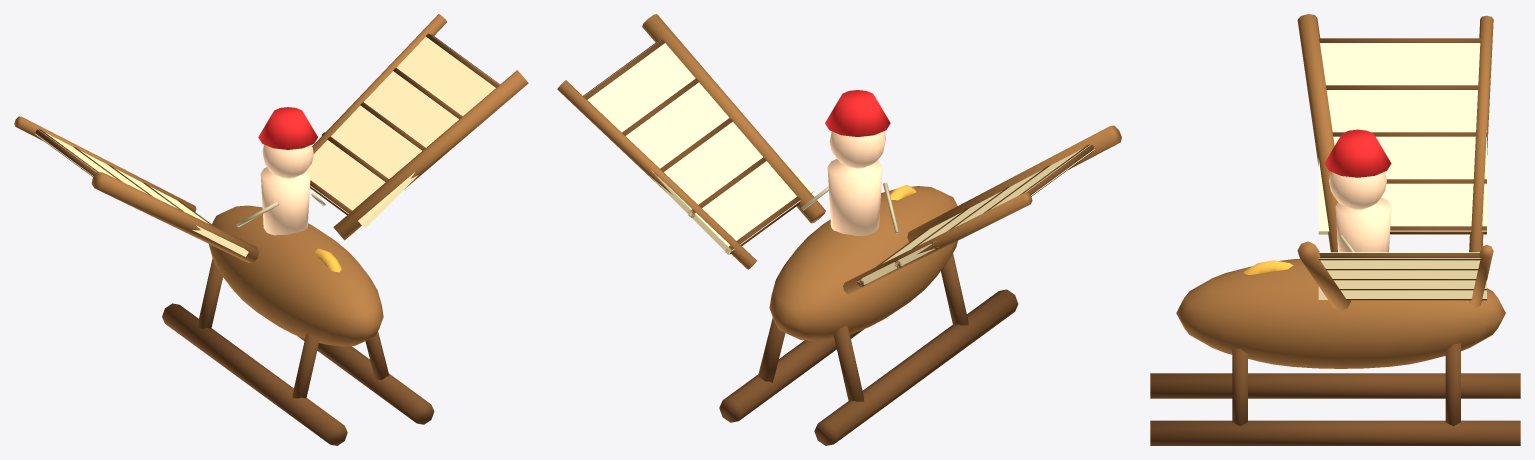
The model's file is ornitoptero.glb.
3 renders of one model, left to right at view 1: azimuth 30°, elevation 25°; view 2: azimuth 150°, elevation 25°; view 3: azimuth 270°, elevation 25°, orthographic. The views are drawn at different scales.
Parts seen in each view (by area): view 1: ornitoptero_casco, ornitoptero_tela_1, ornitoptero_patin_dcho, ornitoptero_larguero_1, ornitoptero_larguero_-1, ornitoptero_patin_izq, ornitoptero_piloto, ornitoptero_gorro, ornitoptero_tela_-1, ornitoptero_larguero_atras_1, ornitoptero_cabeza, ornitoptero_larguero_atras_-1 (+5 smaller); view 2: ornitoptero_tela_1, ornitoptero_casco, ornitoptero_patin_dcho, ornitoptero_larguero_1, ornitoptero_piloto, ornitoptero_patin_izq, ornitoptero_larguero_atras_1, ornitoptero_tela_-1, ornitoptero_larguero_atras_-1, ornitoptero_larguero_-1, ornitoptero_gorro, ornitoptero_cabeza (+6 smaller); view 3: ornitoptero_casco, ornitoptero_tela_-1, ornitoptero_patin_izq, ornitoptero_patin_dcho, ornitoptero_tela_1, ornitoptero_larguero_-1, ornitoptero_larguero_atras_-1, ornitoptero_piloto, ornitoptero_gorro, ornitoptero_cabeza, ornitoptero_larguero_1, ornitoptero_costilla_1_4 (+9 smaller).
Part boxes in pixels (<box>): ornitoptero_casco: <box>209,205,383,346</box>; ornitoptero_tela_1: <box>308,33,499,227</box>; ornitoptero_patin_dcho: <box>162,303,347,445</box>; ornitoptero_larguero_1: <box>333,70,528,240</box>; ornitoptero_larguero_-1: <box>91,172,258,262</box>; ornitoptero_patin_izq: <box>297,336,434,424</box>; ornitoptero_piloto: <box>260,167,310,235</box>; ornitoptero_gorro: <box>258,107,317,149</box>; ornitoptero_tela_-1: <box>35,129,248,256</box>; ornitoptero_larguero_atras_1: <box>312,14,446,153</box>; ornitoptero_cabeza: <box>262,144,313,178</box>; ornitoptero_larguero_atras_-1: <box>14,116,196,211</box>; ornitoptero_tela_1: <box>584,39,814,254</box>; ornitoptero_casco: <box>769,186,957,340</box>; ornitoptero_patin_dcho: <box>814,289,1018,445</box>; ornitoptero_larguero_1: <box>642,14,825,223</box>; ornitoptero_piloto: <box>827,159,882,235</box>; ornitoptero_patin_izq: <box>719,329,864,422</box>; ornitoptero_larguero_atras_1: <box>557,80,756,269</box>; ornitoptero_tela_-1: <box>857,144,1094,285</box>; ornitoptero_larguero_atras_-1: <box>843,192,1032,294</box>; ornitoptero_larguero_-1: <box>907,125,1121,241</box>; ornitoptero_gorro: <box>825,90,890,136</box>; ornitoptero_cabeza: <box>829,131,885,168</box>; ornitoptero_casco: <box>1176,258,1505,368</box>; ornitoptero_tela_-1: <box>1318,43,1486,234</box>; ornitoptero_patin_izq: <box>1150,420,1520,445</box>; ornitoptero_patin_dcho: <box>1150,373,1520,398</box>; ornitoptero_tela_1: <box>1318,252,1486,299</box>; ornitoptero_larguero_-1: <box>1297,14,1337,252</box>; ornitoptero_larguero_atras_-1: <box>1469,15,1493,252</box>; ornitoptero_piloto: <box>1335,197,1391,252</box>; ornitoptero_gorro: <box>1324,129,1391,177</box>; ornitoptero_cabeza: <box>1329,171,1386,209</box>; ornitoptero_larguero_1: <box>1297,241,1350,310</box>; ornitoptero_costilla_1_4: <box>1319,253,1480,260</box>.
Bounding box in the file's own units: 0.5003 × 0.2893 × 0.33.
